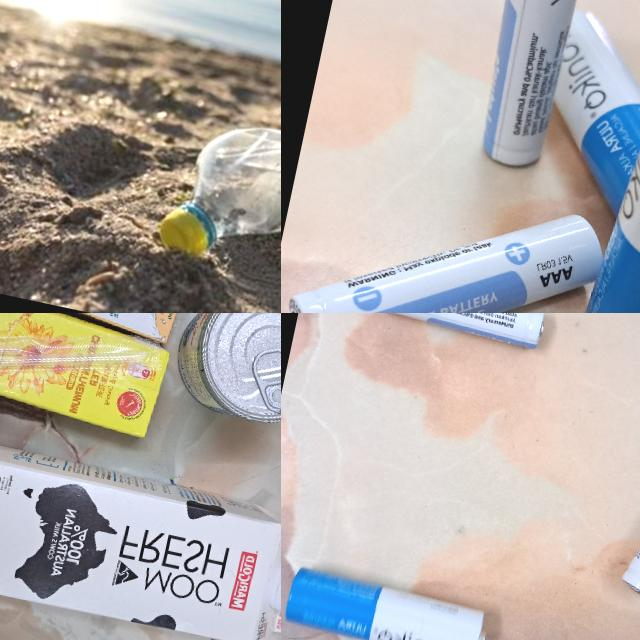aba de lata: (244, 342, 281, 415)
bateria: (281, 158, 609, 313), (467, 0, 596, 173), (535, 4, 640, 216), (573, 0, 640, 313), (281, 563, 492, 640), (367, 313, 552, 352)
caixinha: (0, 431, 281, 640), (0, 313, 175, 440)
garrafa plástica: (182, 82, 281, 285)
lata: (168, 313, 281, 439)
tampa plástica: (153, 205, 213, 259), (266, 554, 281, 617)
